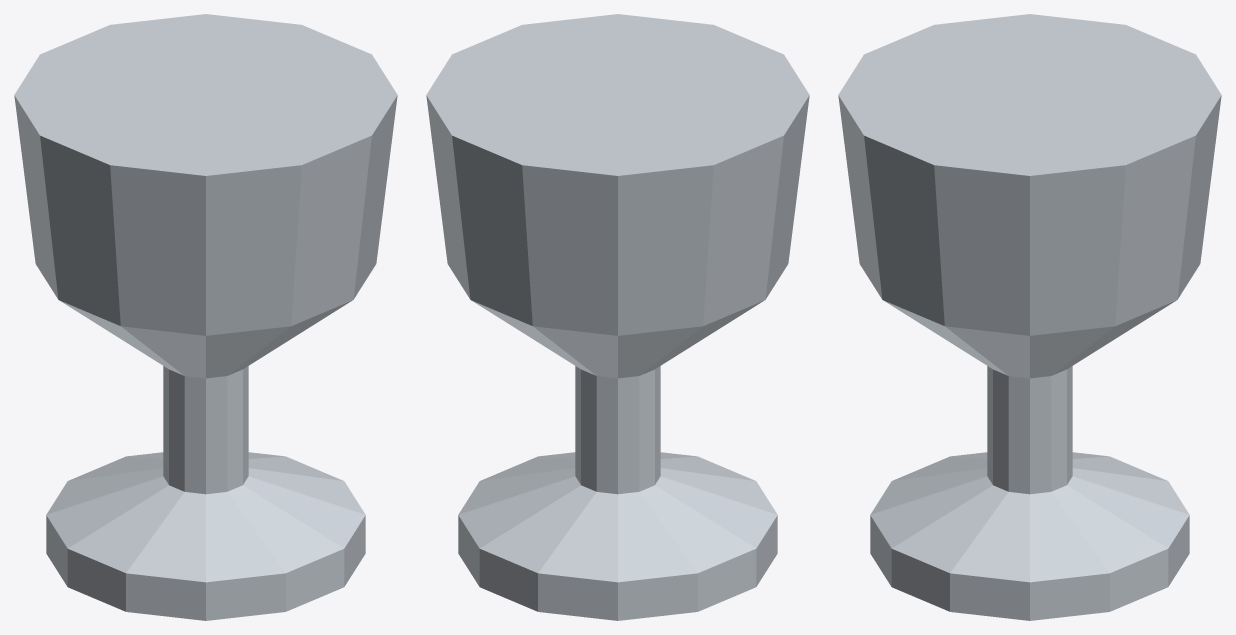
File: loot_silver.glb
The picture shows the model from 3 angles, left to right: view 1: azimuth 30°, elevation 25°; view 2: azimuth 150°, elevation 25°; view 3: azimuth 270°, elevation 25°; orthographic projection.
Parts seen in each view (by area): view 1: item; view 2: item; view 3: item.
Boxes of the visible parts, left/top/right/bottom form: item: left=14, top=14, right=397, bottom=620; item: left=426, top=14, right=809, bottom=620; item: left=838, top=14, right=1221, bottom=620.
Size of the model in its own units: 0.072 by 0.095 by 0.072.
1 material, 1 textured.
